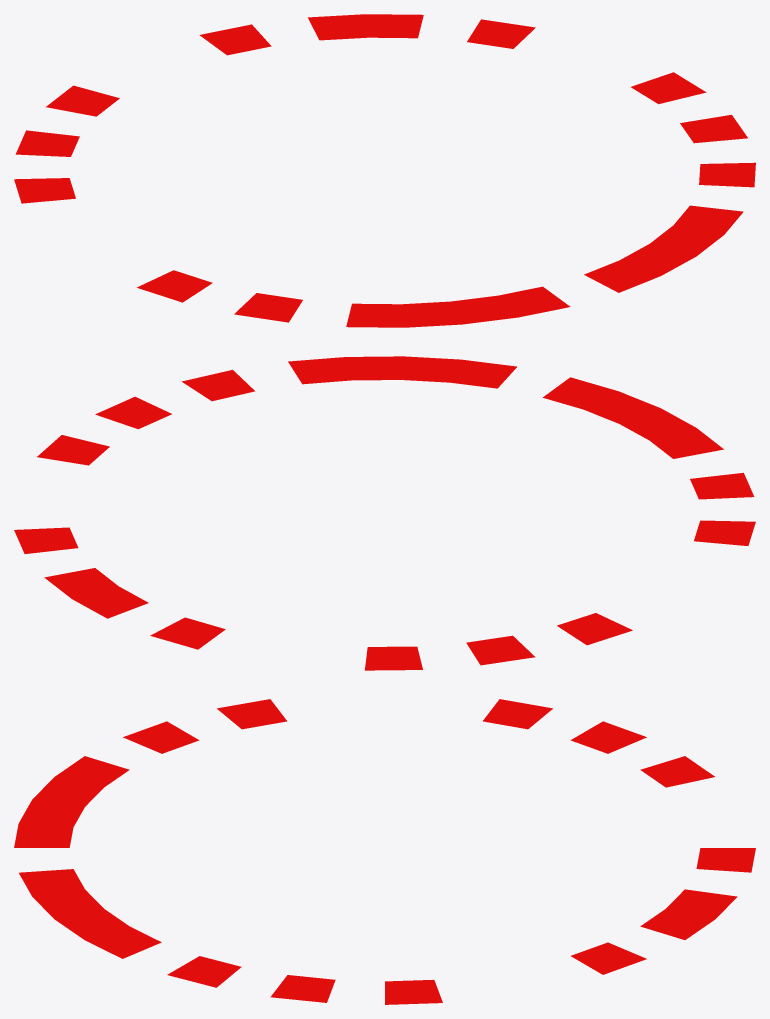
The model's file is SM_TotemOfRegenerationCircle.glb.
3 views of the same model, one above another, from view 1: azimuth 30°, elevation 25°; view 2: azimuth 150°, elevation 25°; view 3: azimuth 270°, elevation 25° (orthographic).
Visible parts, largest first — view 1: SM_TotemOfRegenerationCircle.001; view 2: SM_TotemOfRegenerationCircle.001; view 3: SM_TotemOfRegenerationCircle.001.
Part boxes in pixels (bbox=[...]): SM_TotemOfRegenerationCircle.001: bbox=[14, 14, 755, 327]; SM_TotemOfRegenerationCircle.001: bbox=[14, 356, 755, 670]; SM_TotemOfRegenerationCircle.001: bbox=[14, 699, 755, 1004].
Size of the model in its own units: 66.92 by 0 by 68.59.
1 material, 1 textured.
